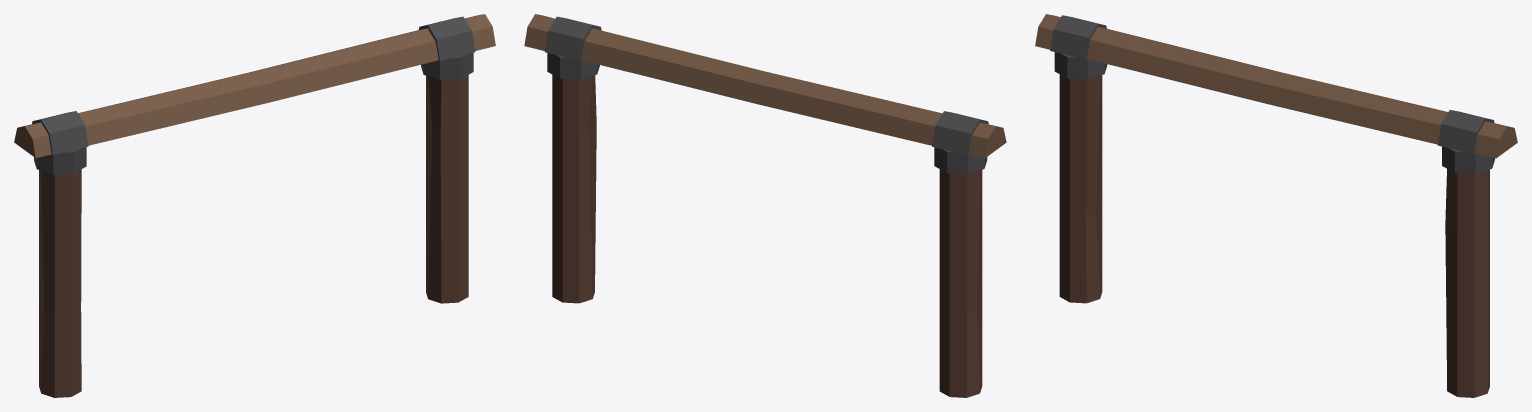
The model's file is Stick.glb.
The picture shows the model from 3 angles, left to right: view 1: azimuth 30°, elevation 25°; view 2: azimuth 150°, elevation 25°; view 3: azimuth 330°, elevation 25°; orthographic projection.
Visible parts, largest first — view 1: Stick; view 2: Stick; view 3: Stick.
Part boxes in pixels (x1,y1,x2,y2): Stick: [14, 14, 495, 397]; Stick: [524, 14, 1006, 397]; Stick: [1035, 14, 1517, 397].
Size of what is drawn, in the model's own units: 1.92 by 1.09 by 0.1977.
Materials: 1 (1 with a texture image).
